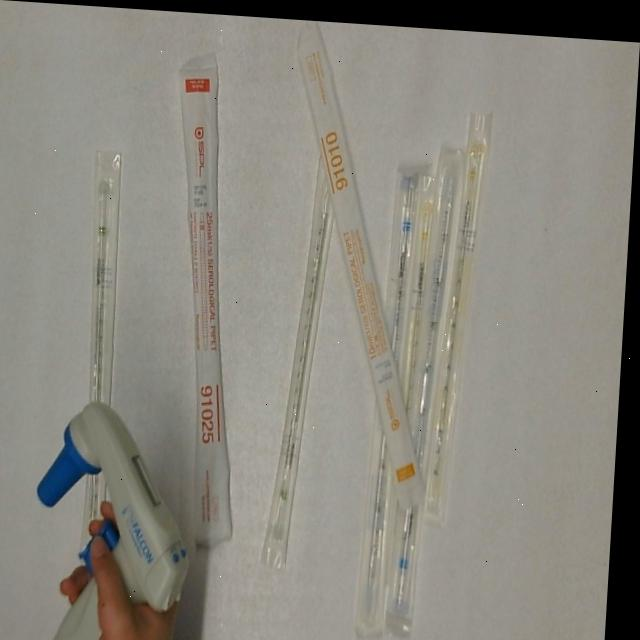Pipette Controller: (35, 392, 207, 640)
Serelogical Pipet 1 mL - Sealed: (444, 96, 492, 508), (398, 166, 447, 432)
Serelogical Pipet 10 mL - Sealed: (273, 16, 455, 508)
Serelogical Pipet 2 mL - Sealed: (263, 141, 349, 572), (78, 140, 136, 571)
Serelogical Pipet 25 mL - Sealed: (157, 45, 277, 548)
Serelogical Pipet 5 mL - Sealed: (393, 138, 468, 617), (360, 152, 423, 636)
